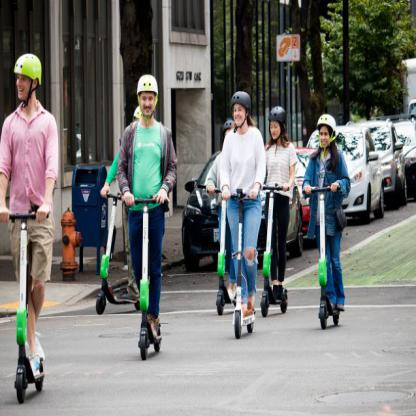scooter: (0, 209, 50, 404), (124, 195, 169, 360), (300, 182, 344, 330), (222, 191, 260, 340), (258, 183, 291, 318)
with helmet: (14, 52, 42, 102), (136, 74, 158, 116), (230, 91, 252, 128), (314, 113, 336, 148), (269, 104, 285, 140)
